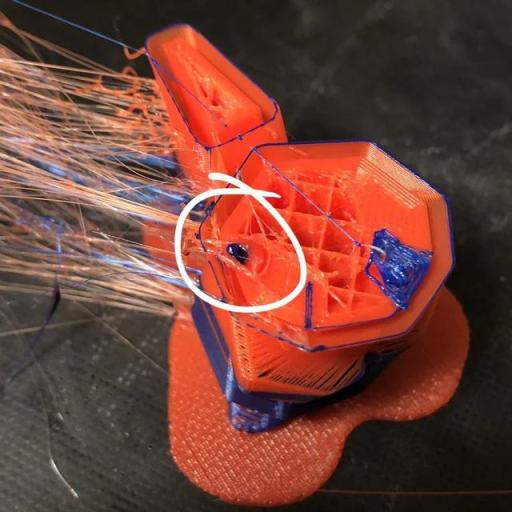stringing: (2, 58, 162, 185), (0, 184, 154, 307)
